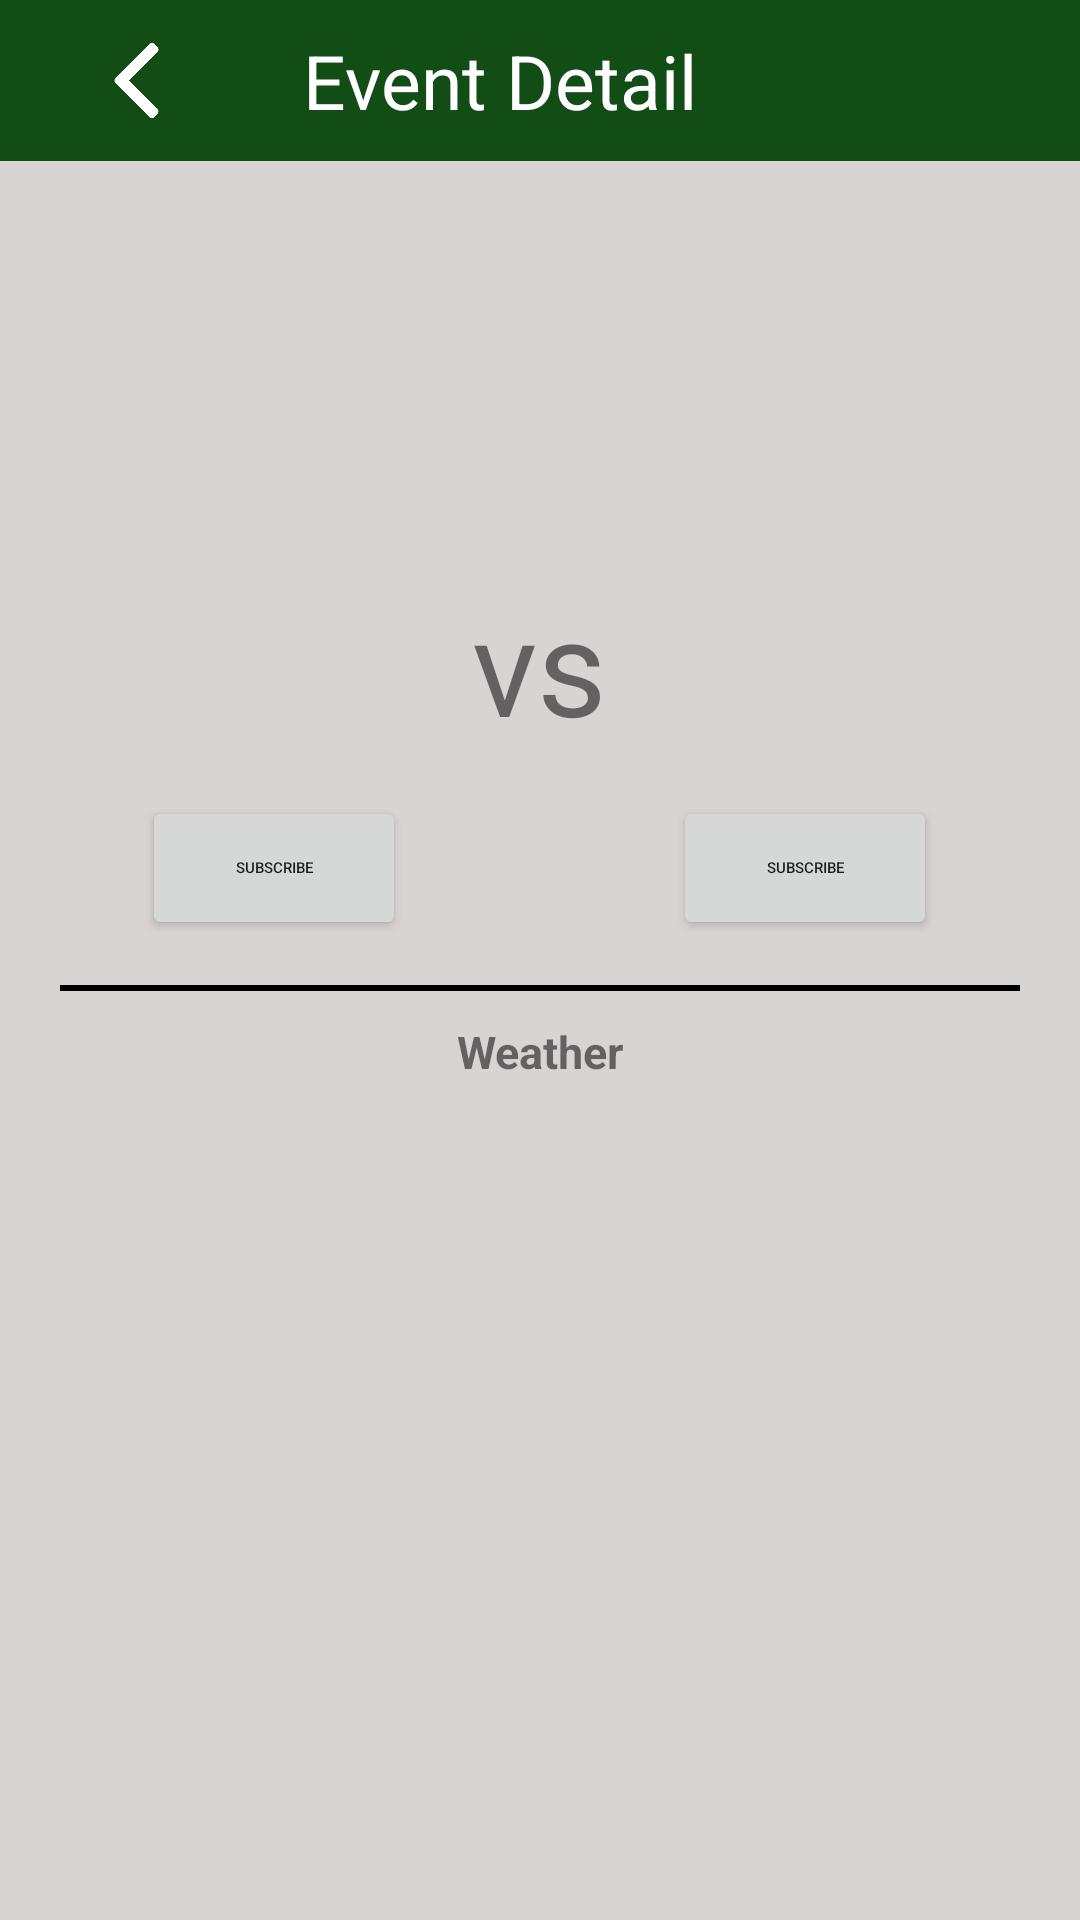

Where icons sit on this 1080px×1920px app screen, as bbox=(x1, y1, x2, y2):
back: bbox=(114, 43, 159, 118)
